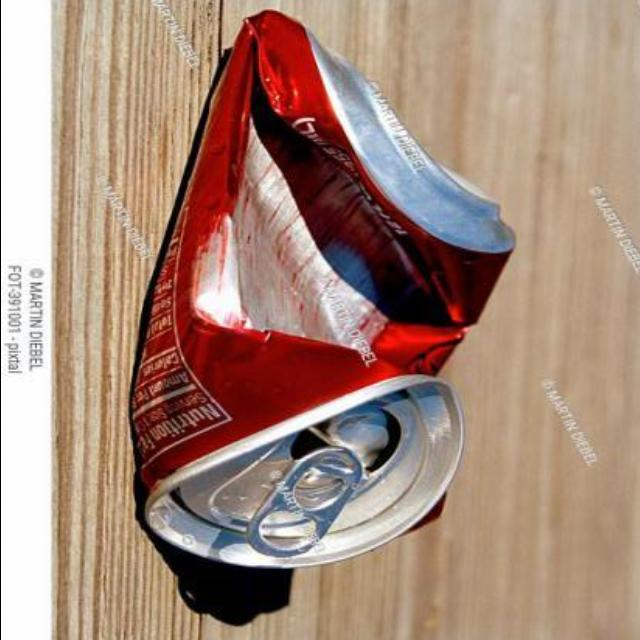metal: (134, 9, 516, 565)
